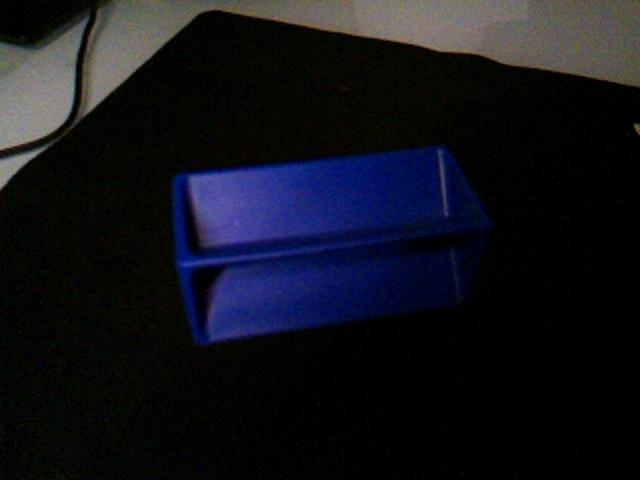blue: (170, 142, 496, 347)
